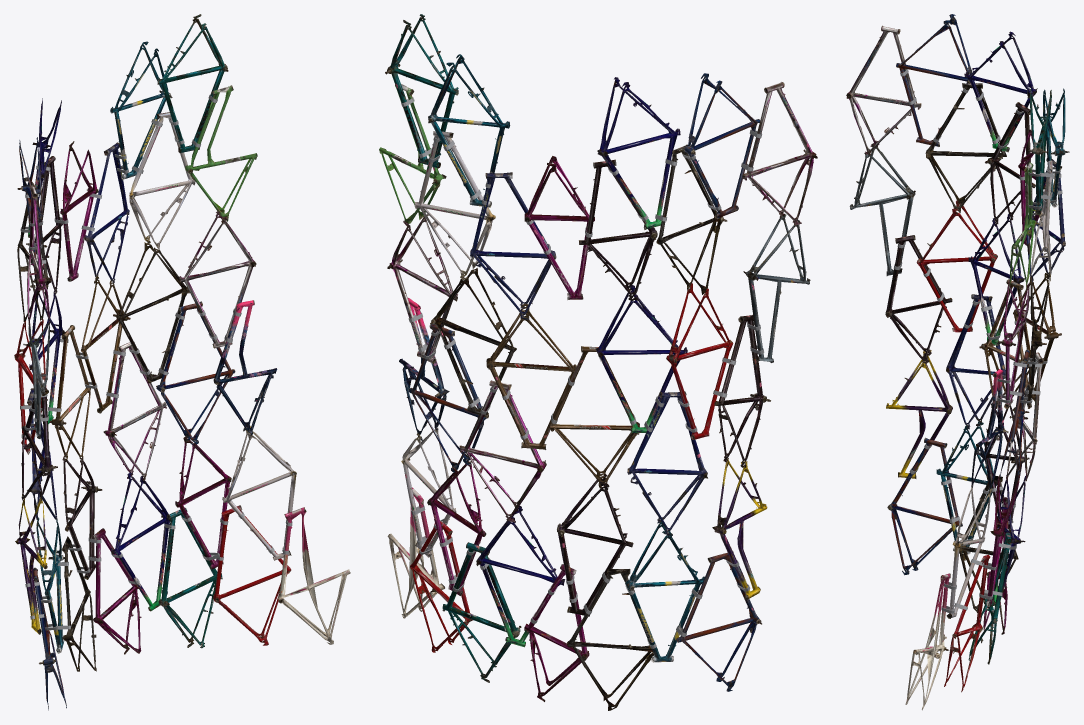
Rendered from FrameStructure_v7_05_1024.glb.
3 views of the same model, side by side, from view 1: azimuth 30°, elevation 25°; view 2: azimuth 150°, elevation 25°; view 3: azimuth 270°, elevation 25° (orthographic). The views are drawn at different scales.
Bounding box in the file's own units: 2.85 × 4.69 × 1.6.
18 materials, 17 textured.
